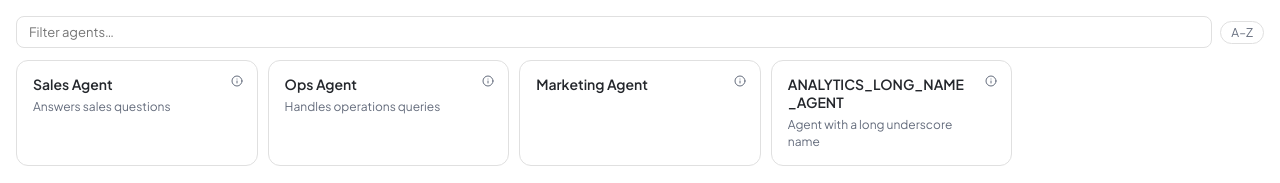
Test: AgentsView › filters agents by description
The image size is (1280, 183).
Step 1. Type "operations" into the search field labelled "Filter agents" → (614, 32), box [16,16,1212,48]
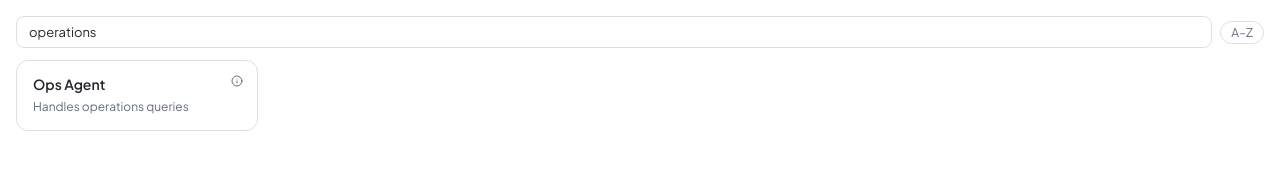
Expected: the text "Ops Agent" is shown, [33,75,105,93]
Result: the button "Sales Agent" is gone
